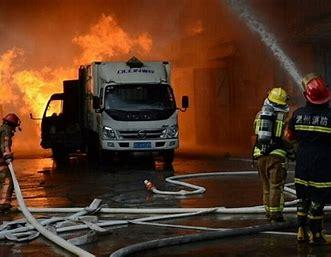smoke: (0, 46, 63, 117), (70, 12, 155, 64)
